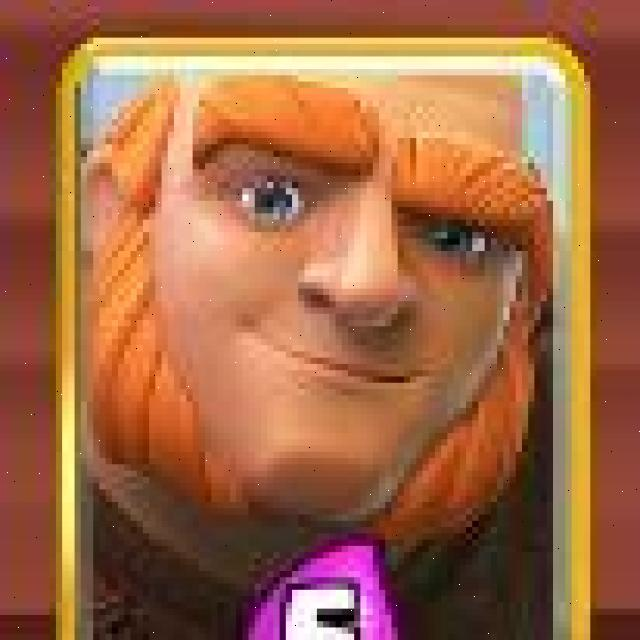Giant: (55, 37, 593, 640)
